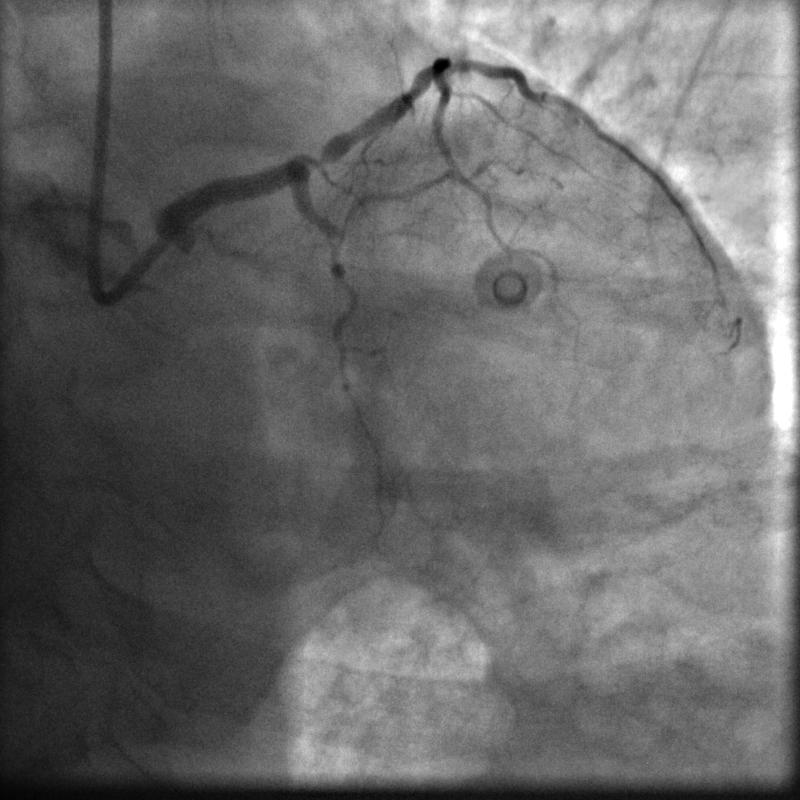Stenosis: (289, 144, 341, 171)
